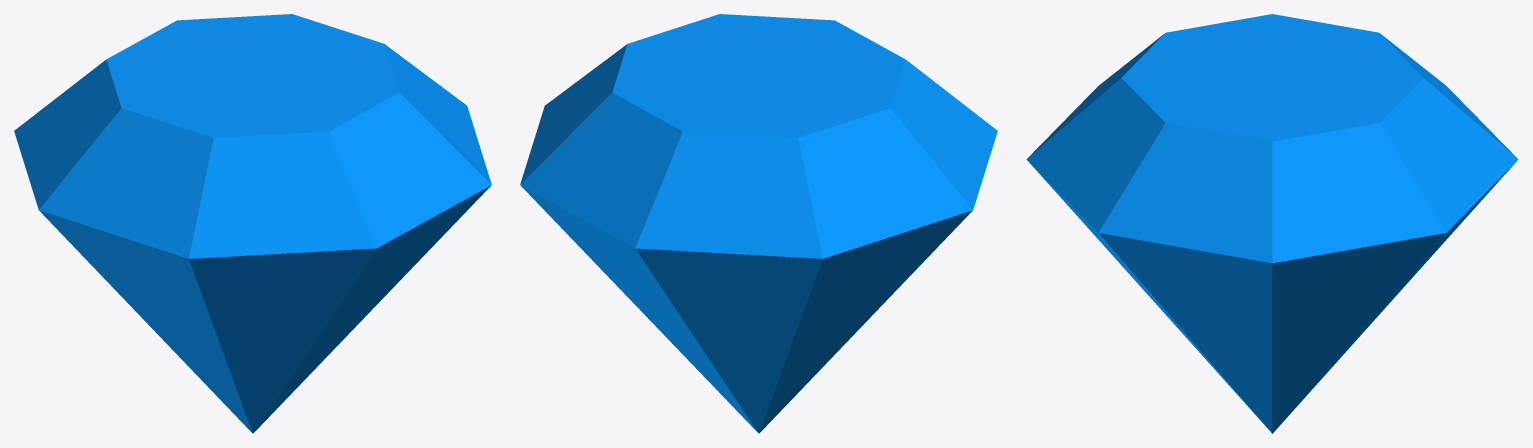
The model's file is Coin.fbx.
3 views of the same model, side by side, from view 1: azimuth 30°, elevation 25°; view 2: azimuth 150°, elevation 25°; view 3: azimuth 270°, elevation 25° (orthographic).
Visible parts, largest first — view 1: Gem1Blue; view 2: Gem1Blue; view 3: Gem1Blue.
Boxes of the visible parts, x1,y1,x2,y2 form: Gem1Blue: (14, 14, 491, 433); Gem1Blue: (520, 14, 997, 433); Gem1Blue: (1026, 14, 1518, 433).
Bounding box in the file's own units: 66.78 × 53.32 × 66.78.
1 material, 1 textured.
